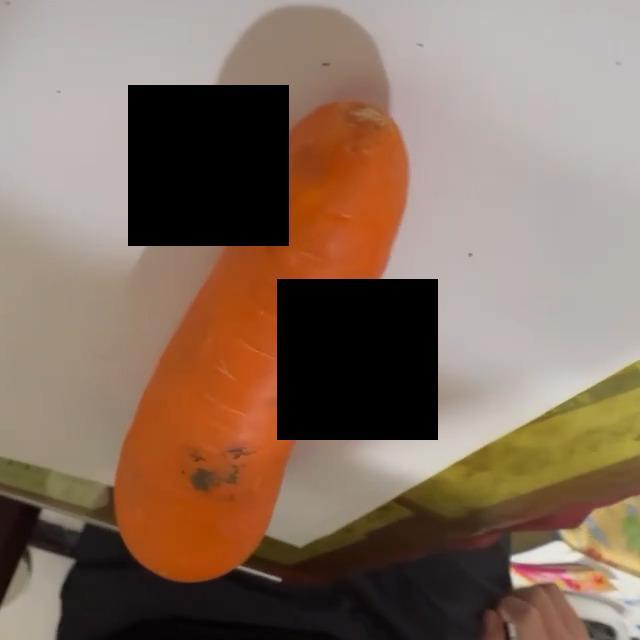carrot: (112, 99, 412, 588)
